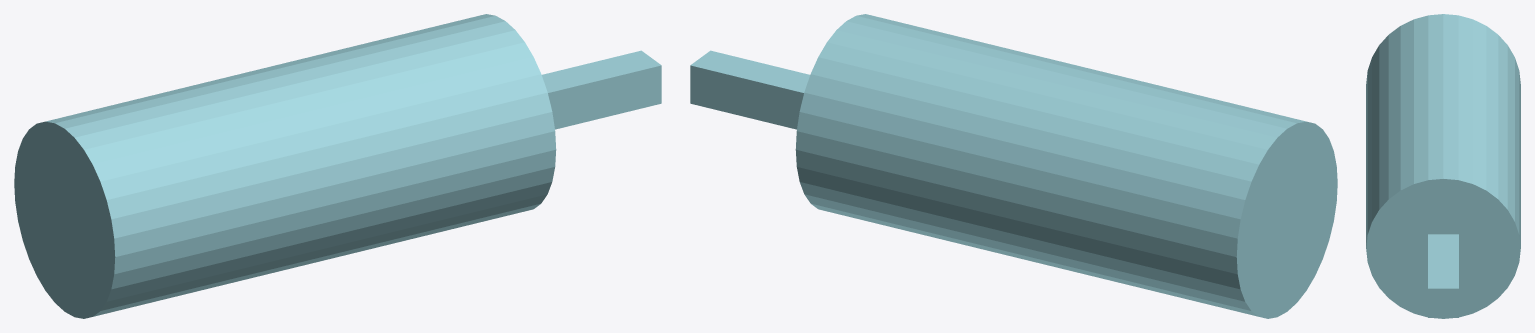
File: cylinder_marker_v4000.obj
The picture shows the model from 3 angles, left to right: view 1: azimuth 30°, elevation 25°; view 2: azimuth 150°, elevation 25°; view 3: azimuth 270°, elevation 25°; orthographic projection. The views are drawn at different scales.
Size of the model in its own units: 0.1155 by 0.0344 by 0.0344.
1 material, 1 textured.
